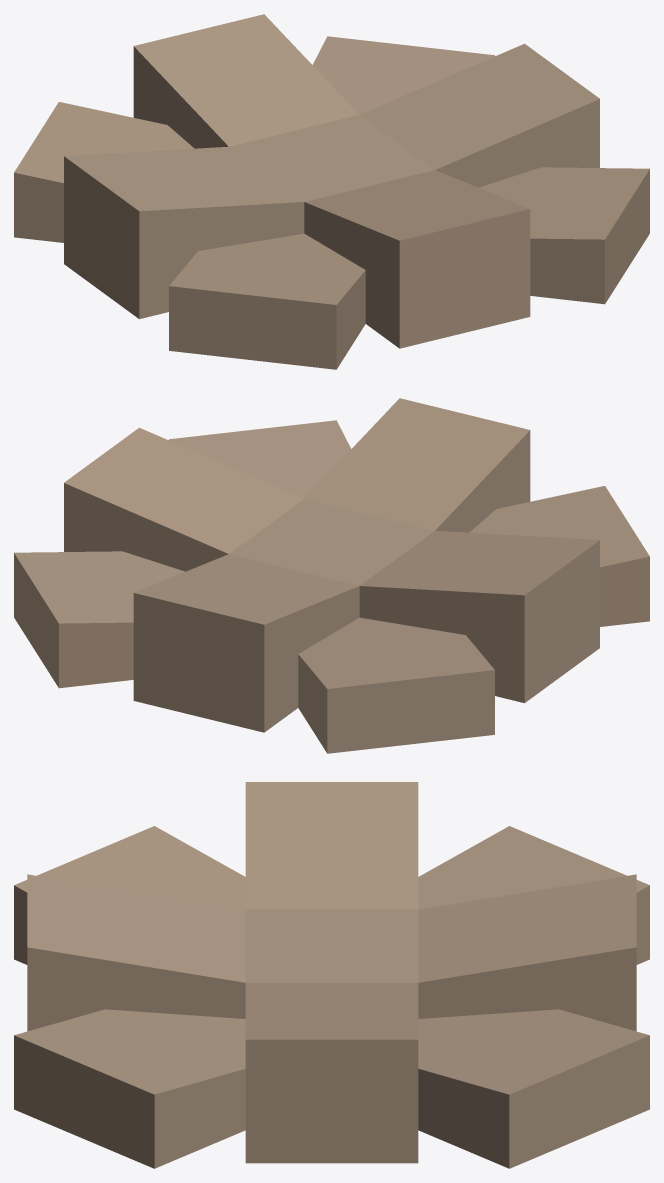
The model's file is K_Campfire.glb.
The picture shows the model from 3 angles, top to bottom: view 1: azimuth 30°, elevation 25°; view 2: azimuth 150°, elevation 25°; view 3: azimuth 270°, elevation 25°; orthographic projection. The views are drawn at different scales.
Parts seen in each view (by area): view 1: K_Campfire; view 2: K_Campfire; view 3: K_Campfire.
Boxes of the visible parts, x1=… form: K_Campfire: x1=14, y1=14, x2=649, y2=369; K_Campfire: x1=14, y1=398, x2=649, y2=753; K_Campfire: x1=14, y1=782, x2=649, y2=1168.
Bounding box in the file's own units: 1.17 × 0.2504 × 1.17.
